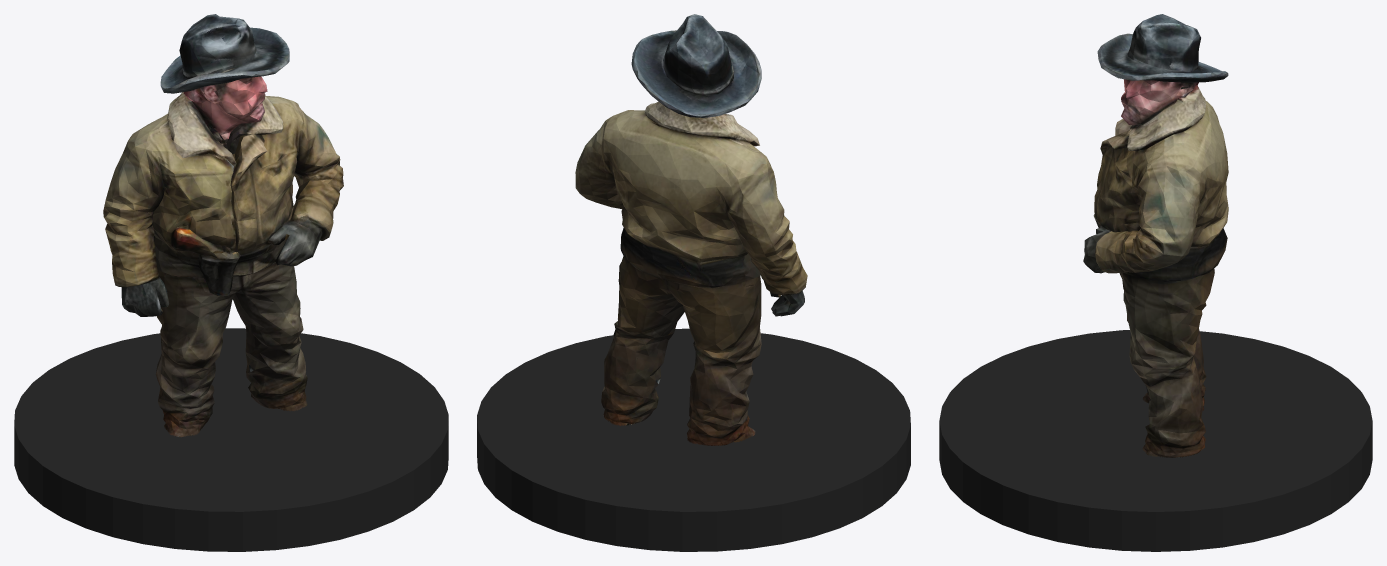
Rendered from daniel-smith.glb.
The picture shows the model from 3 angles, left to right: view 1: azimuth 30°, elevation 25°; view 2: azimuth 150°, elevation 25°; view 3: azimuth 270°, elevation 25°; orthographic projection.
Parts seen in each view (by area): view 1: base, figure; view 2: base, figure; view 3: base, figure.
Part boxes in pixels (<box>): base: <box>14,328,448,551</box>; figure: <box>103,14,343,437</box>; base: <box>477,328,910,551</box>; figure: <box>575,14,807,445</box>; base: <box>939,330,1372,551</box>; figure: <box>1083,14,1228,457</box>.
Size of the model in its own units: 1.18 by 1.32 by 1.18.
Materials: 2 (1 with a texture image).
